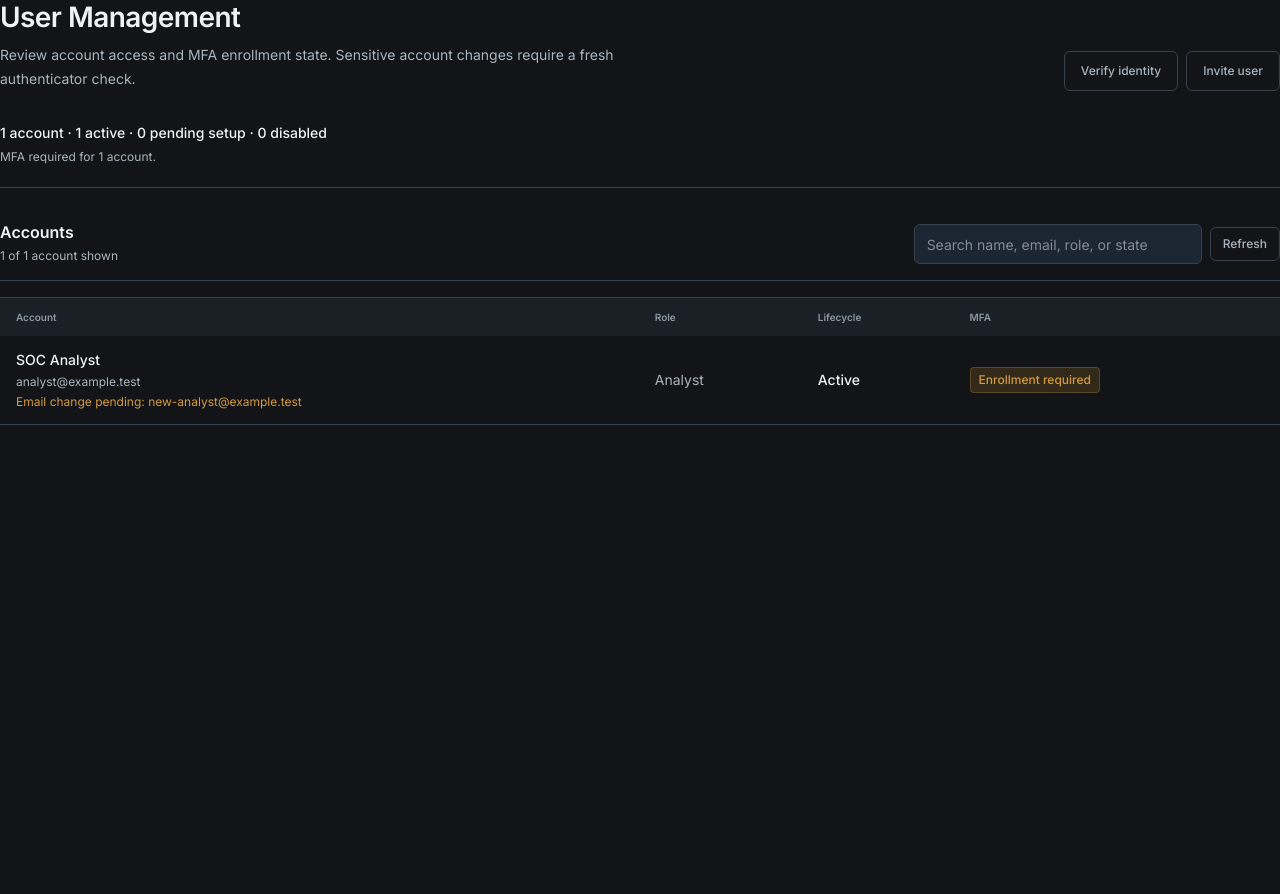
Scenario: UserManagementWorkspace › labels a pending managed-email change as pending and replaceable
Click the button with aria-label "Open account details for SOC Analyst".
click(58, 360)  # box [16,350,100,370]
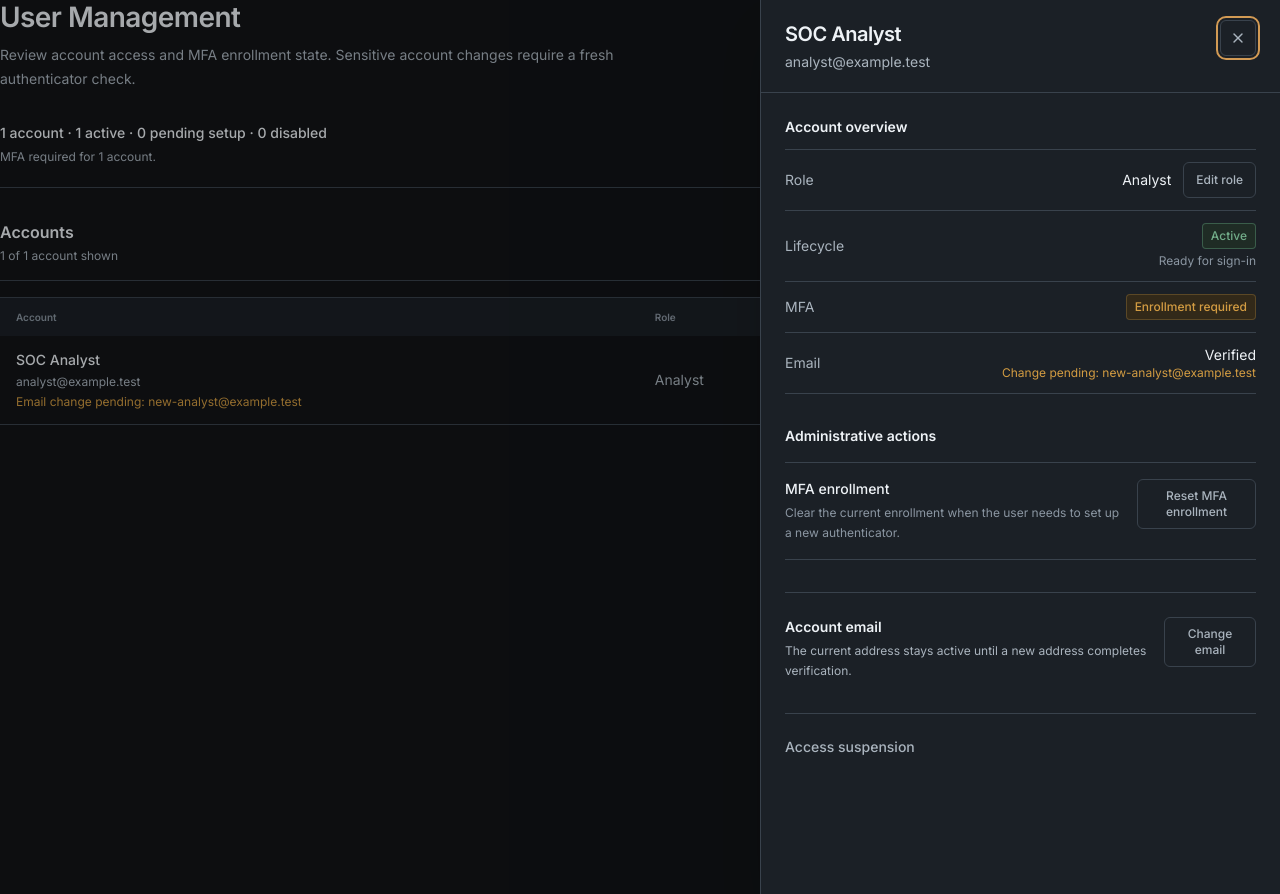
expect the text "Submitting another address replaces the pending request" is not shown: met
expect the text "Change pending: new-analyst@example.test" is shown: met, box [1002,365,1256,381]
Click the button with aria-label "Change email address for SOC Analyst".
click(1210, 642)  # box [1164,617,1256,667]
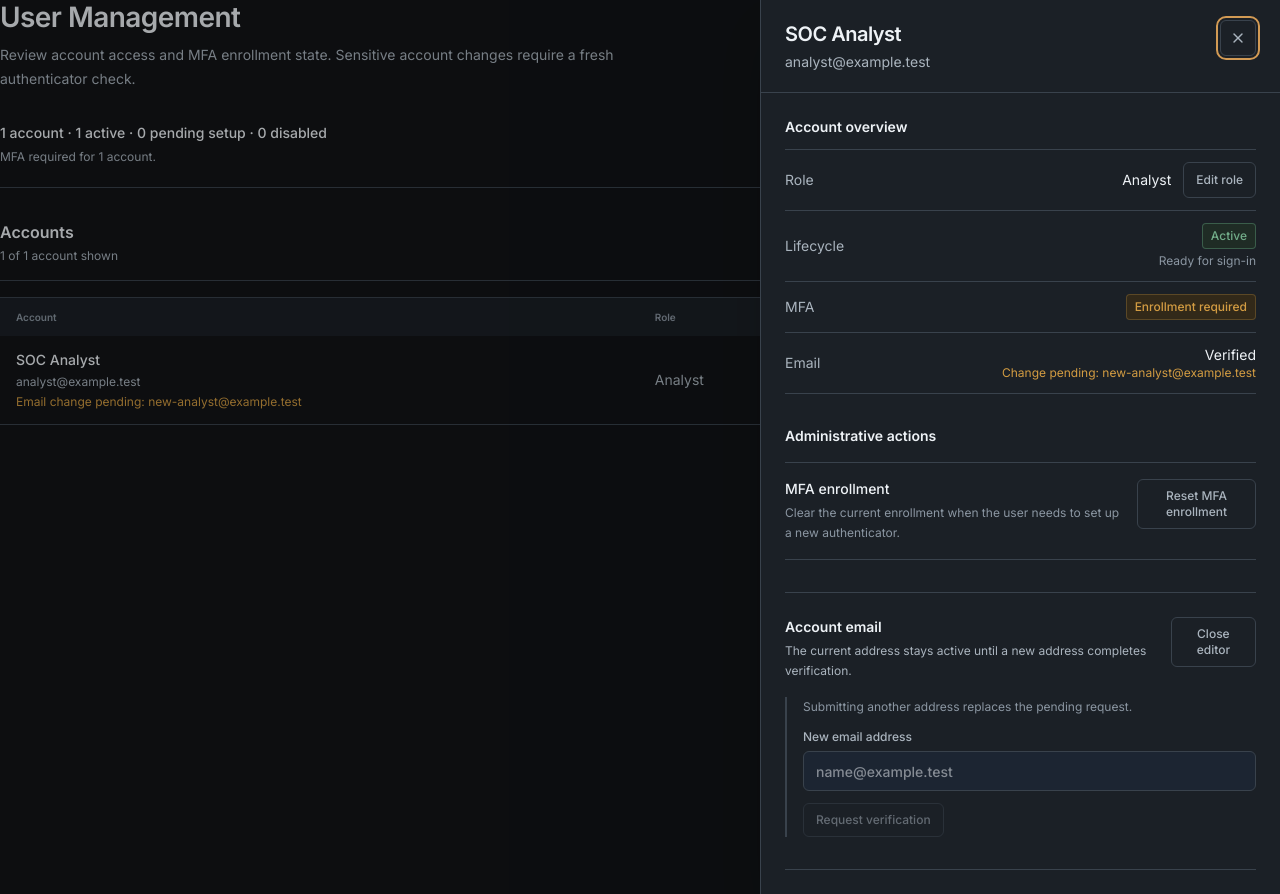
expect the text "Submitting another address replaces the pending request." is shown: met, box [803,699,1132,714]
expect the field labelled "New email address" is shown: met, box [803,751,1256,791]
